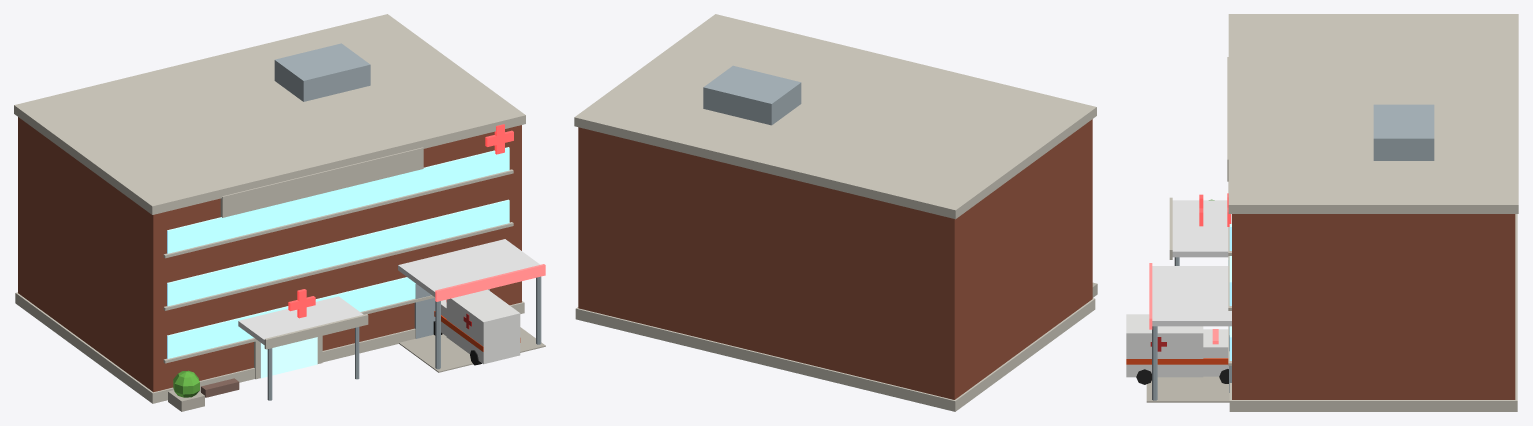
The model's file is places_hospital.glb.
The picture shows the model from 3 angles, left to right: view 1: azimuth 30°, elevation 25°; view 2: azimuth 150°, elevation 25°; view 3: azimuth 270°, elevation 25°; orthographic projection. The views are drawn at different scales.
Visible parts, largest first — view 1: PlacesHospital_body; view 2: PlacesHospital_body; view 3: PlacesHospital_body.
Part boxes in pixels (left/top/right/bottom): PlacesHospital_body: left=14, top=14, right=545, bottom=411; PlacesHospital_body: left=574, top=14, right=1097, bottom=411; PlacesHospital_body: left=1126, top=14, right=1518, bottom=411.
Bounding box in the file's own units: 22.3 × 12.5 × 19.35.
